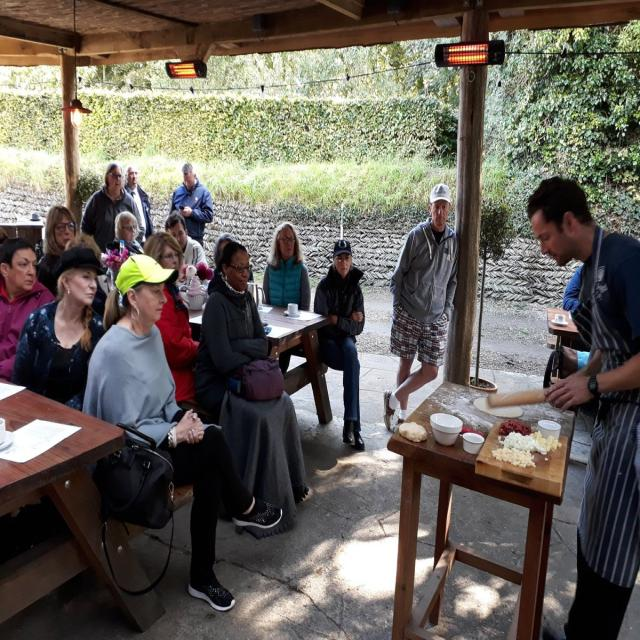body: (79, 250, 286, 614), (524, 171, 639, 639), (194, 240, 304, 518), (381, 178, 463, 442), (11, 245, 106, 413), (310, 237, 367, 454), (142, 230, 204, 406), (0, 237, 58, 385), (261, 220, 311, 377), (79, 162, 146, 254), (34, 203, 79, 298), (168, 162, 214, 249), (122, 162, 155, 248), (164, 210, 209, 269), (213, 230, 256, 285), (113, 209, 145, 257), (560, 259, 586, 313), (63, 230, 102, 252)
